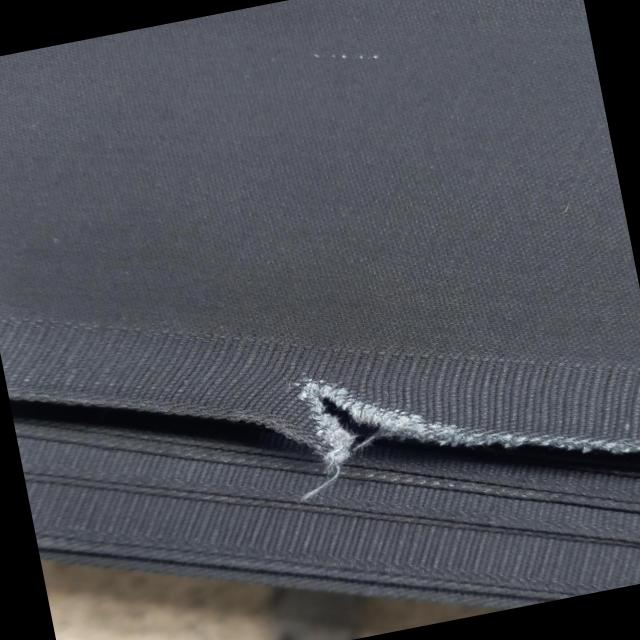cut: (262, 334, 448, 514)
